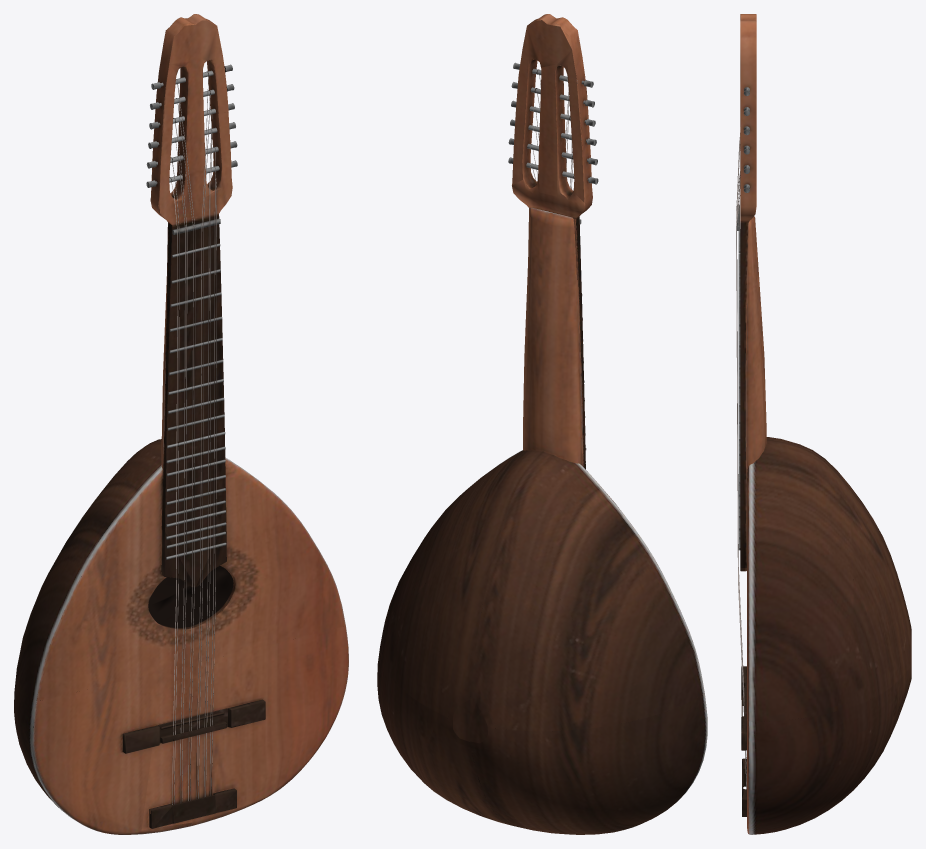
The model's file is lute.glb.
3 views of the same model, side by side, from view 1: azimuth 30°, elevation 25°; view 2: azimuth 150°, elevation 25°; view 3: azimuth 270°, elevation 25° (orthographic). The views are drawn at different scales.
Parts seen in each view (by area): view 1: defaultMaterial; view 2: defaultMaterial; view 3: defaultMaterial.
Boxes of the visible parts, x1,y1,x2,y2 form: defaultMaterial: [14, 14, 348, 834]; defaultMaterial: [377, 14, 707, 834]; defaultMaterial: [736, 14, 911, 834].
Bounding box in the file's own units: 0.8211 × 2 × 0.403.
Materials: 1 (1 with a texture image).
